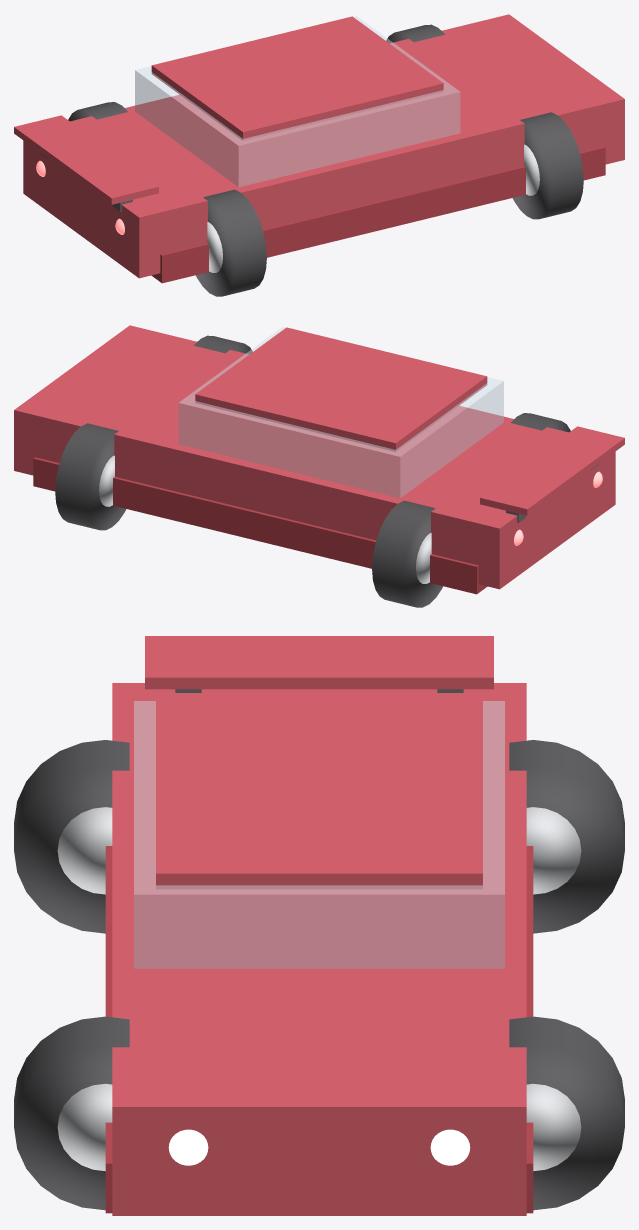
Rendered from car.glb.
3 views of the same model, one above another, from view 1: azimuth 30°, elevation 25°; view 2: azimuth 150°, elevation 25°; view 3: azimuth 270°, elevation 25° (orthographic). The views are drawn at different scales.
Visible parts, largest first — view 1: box (×5), cylinder (×6); view 2: box (×5), cylinder (×6); view 3: box (×5), cylinder (×8), sphere (×2).
Part boxes in pixels (x1,y1,x2,y2): box (×5): (14, 14, 624, 283); cylinder (×6): (68, 24, 583, 296); box (×5): (14, 325, 624, 594); cylinder (×6): (55, 335, 570, 607); box (×5): (105, 636, 533, 1215); cylinder (×8): (14, 740, 624, 1210); sphere (×2): (168, 1129, 470, 1165).
Bounding box in the file's own units: 4.83 × 1.26 × 2.8.
